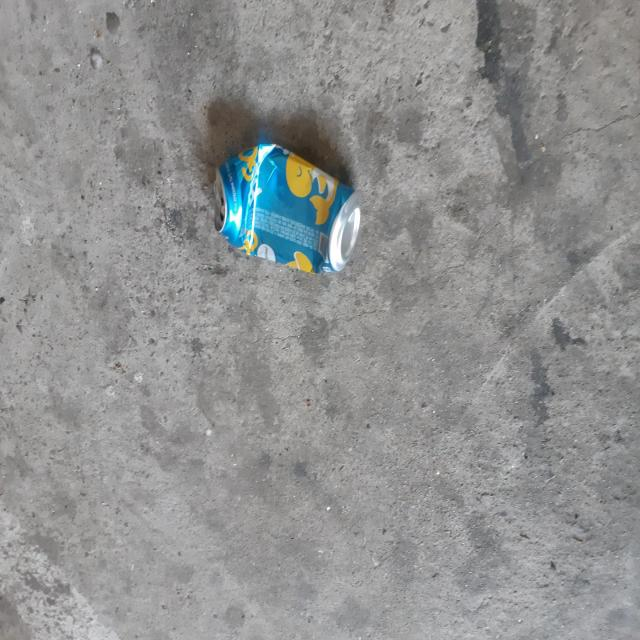can: (214, 143, 361, 273)
